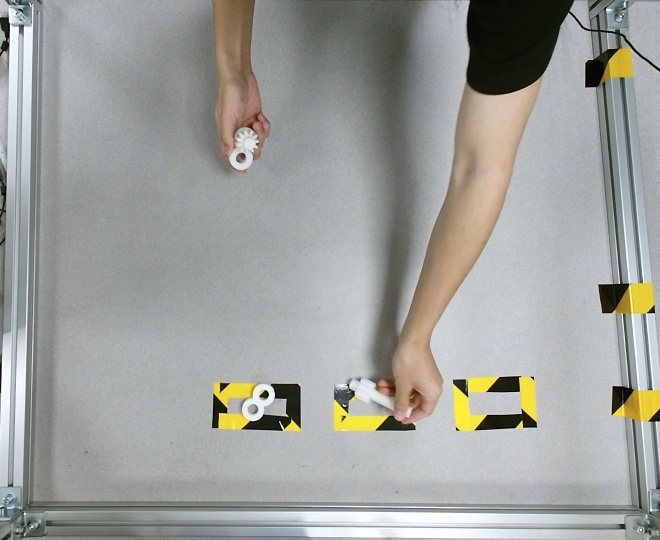stage_2: (229, 126, 259, 170)
